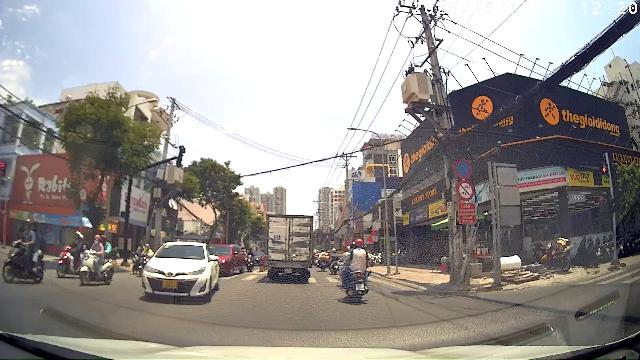131a-cam-do-xe: (453, 158, 472, 178)
